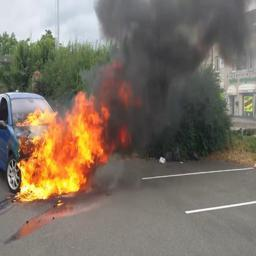fire: (18, 89, 114, 203)
